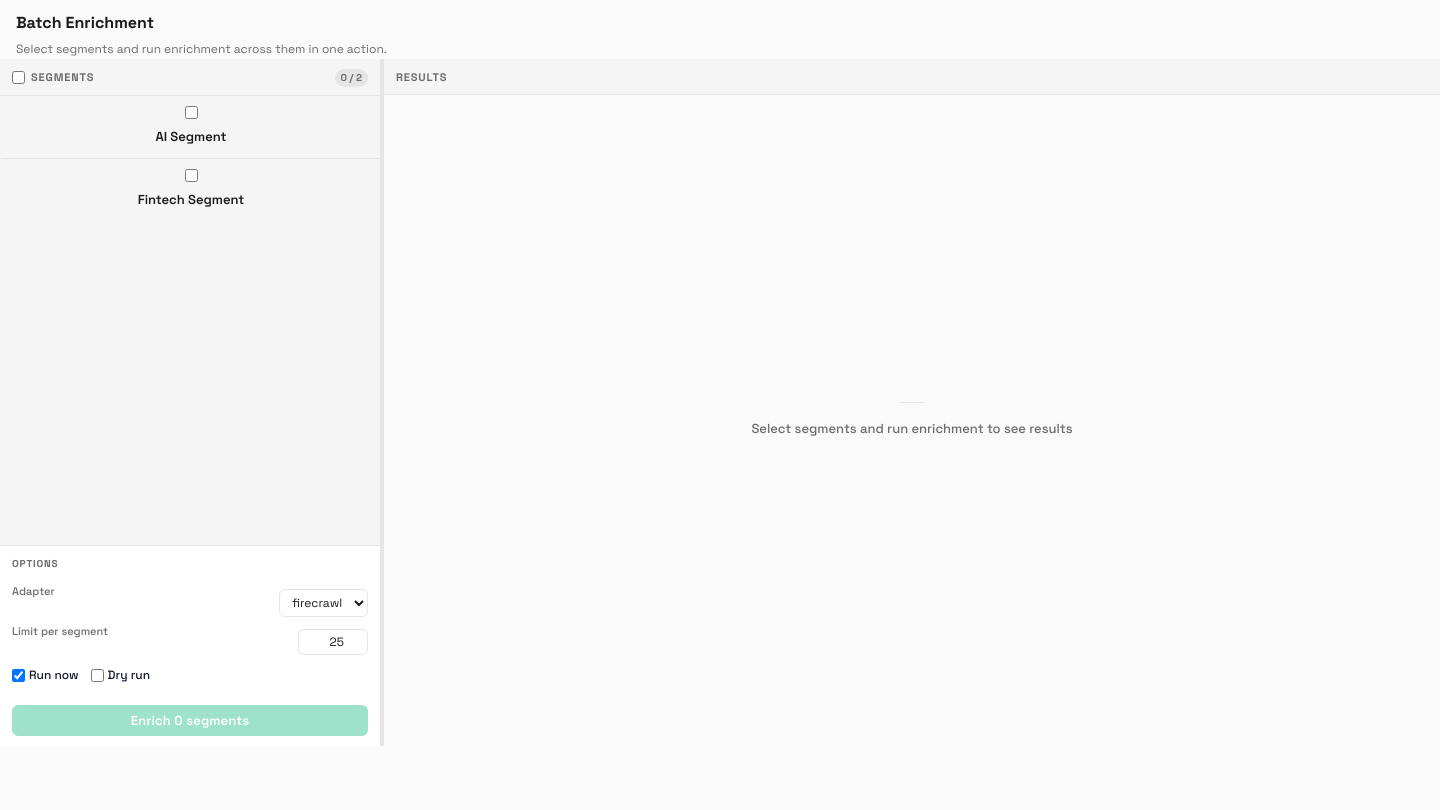
Scenario: EnrichmentWorkspacePage › shows completed results
Expected: the text "AI Segment" is shown, [155,127,226,148]
Note: Select all
Click the checkbox named "Select all segments" at {"x": 18, "y": 78}, box [12,71,25,84]
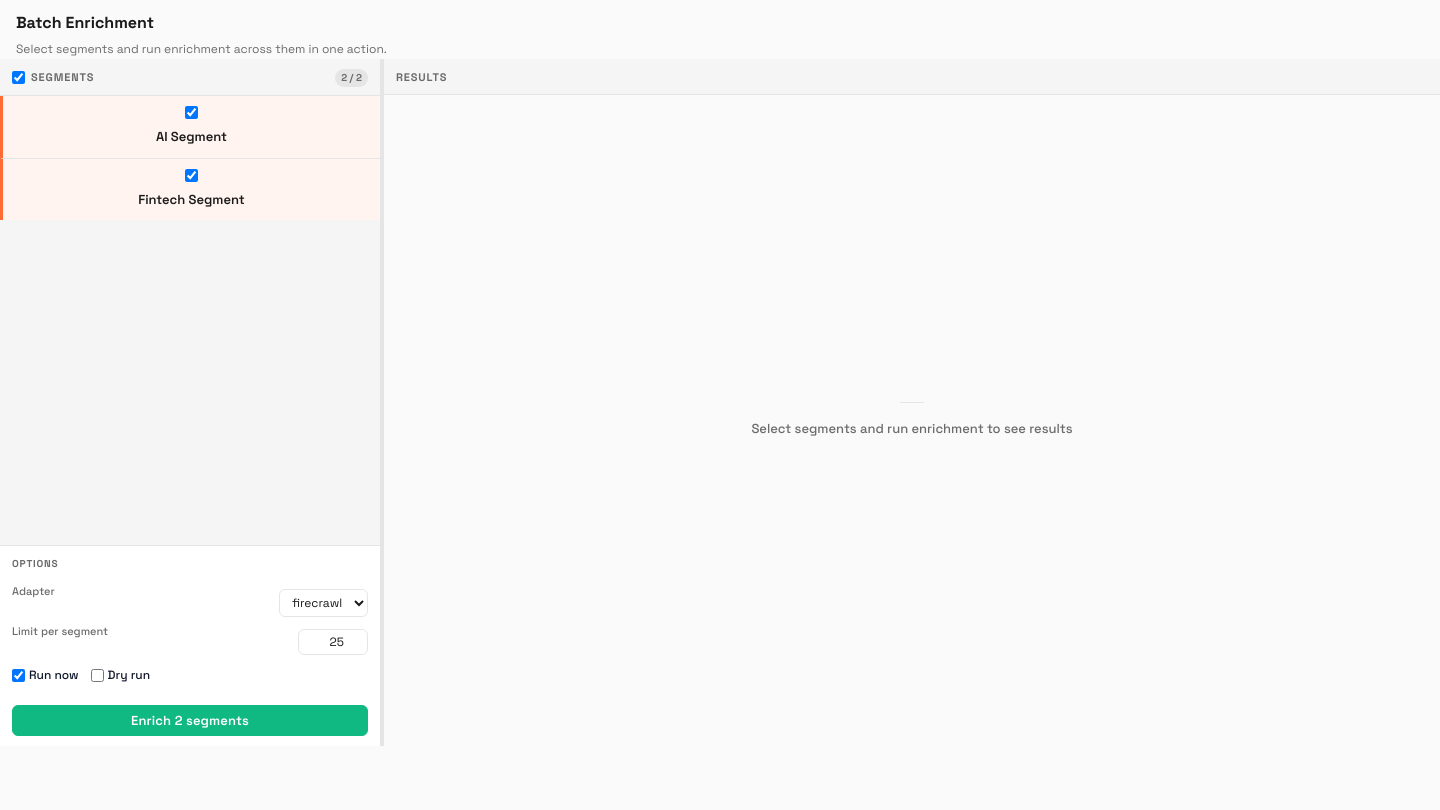
Click the button with aria-label "Run batch enrichment" at {"x": 190, "y": 720}, box [12,705,368,736]
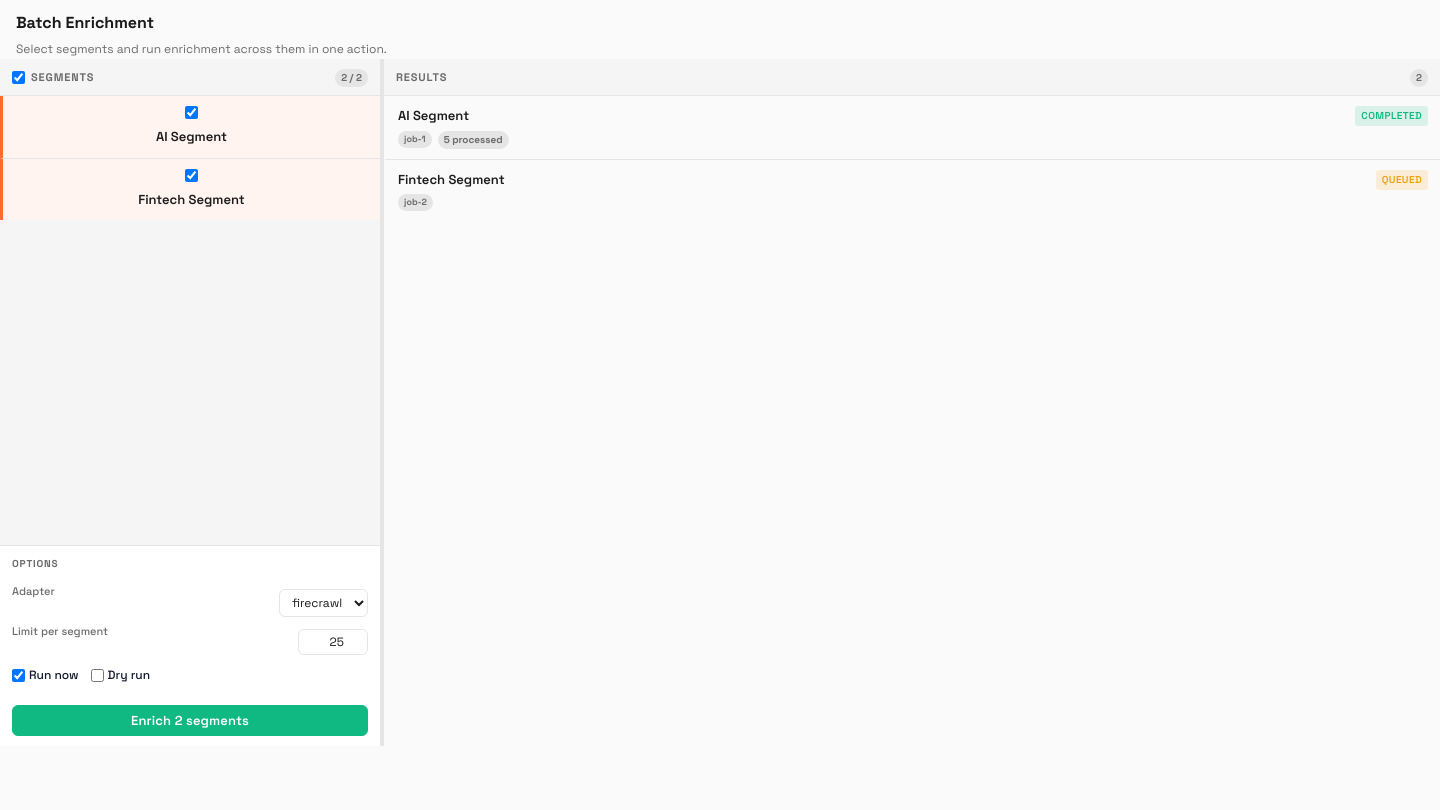
Expected: the text "completed" is shown, [1355,106,1428,126]
Expected: the text "queued" is shown, [1376,170,1428,190]
Expected: the text "5 processed" is shown, [438,131,509,149]
